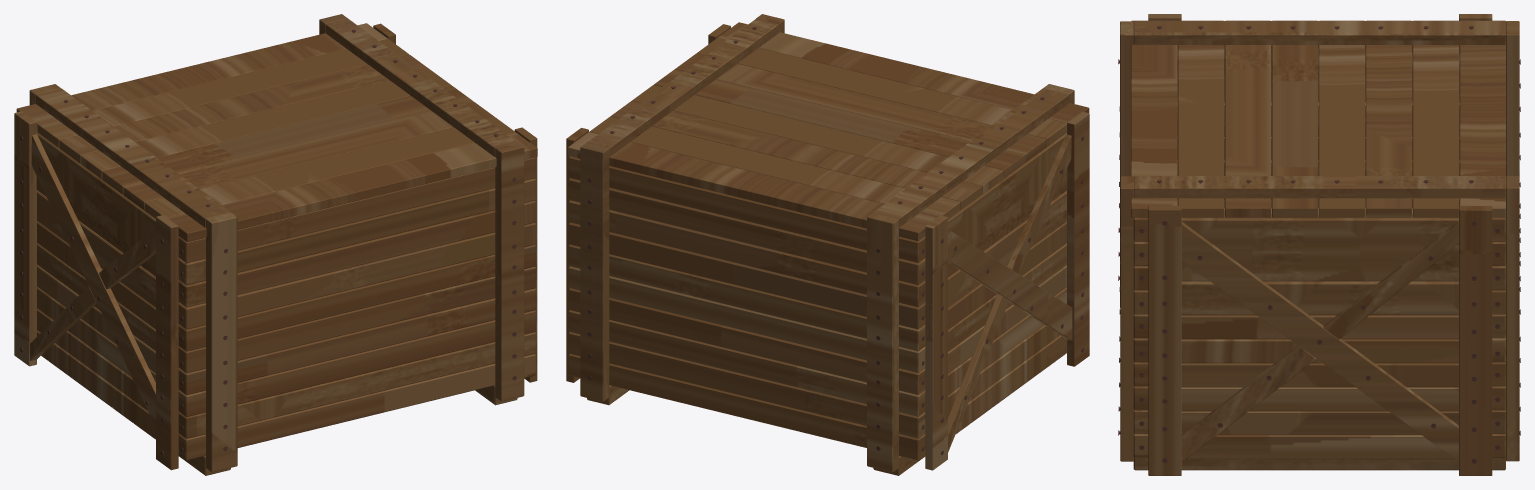
Rendered from WoodenBox.fbx.
3 renders of one model, left to right at view 1: azimuth 30°, elevation 25°; view 2: azimuth 150°, elevation 25°; view 3: azimuth 270°, elevation 25°, orthographic. The views are drawn at different scales.
Parts seen in each view (by area): view 1: polySurface209_polySurface357; view 2: polySurface209_polySurface357; view 3: polySurface209_polySurface357.
Boxes of the visible parts, x1,y1,x2,y2 form: polySurface209_polySurface357: [14, 14, 537, 475]; polySurface209_polySurface357: [566, 14, 1089, 475]; polySurface209_polySurface357: [1118, 14, 1520, 475].
Size of the model in its own units: 2006 by 1351 by 1724.
